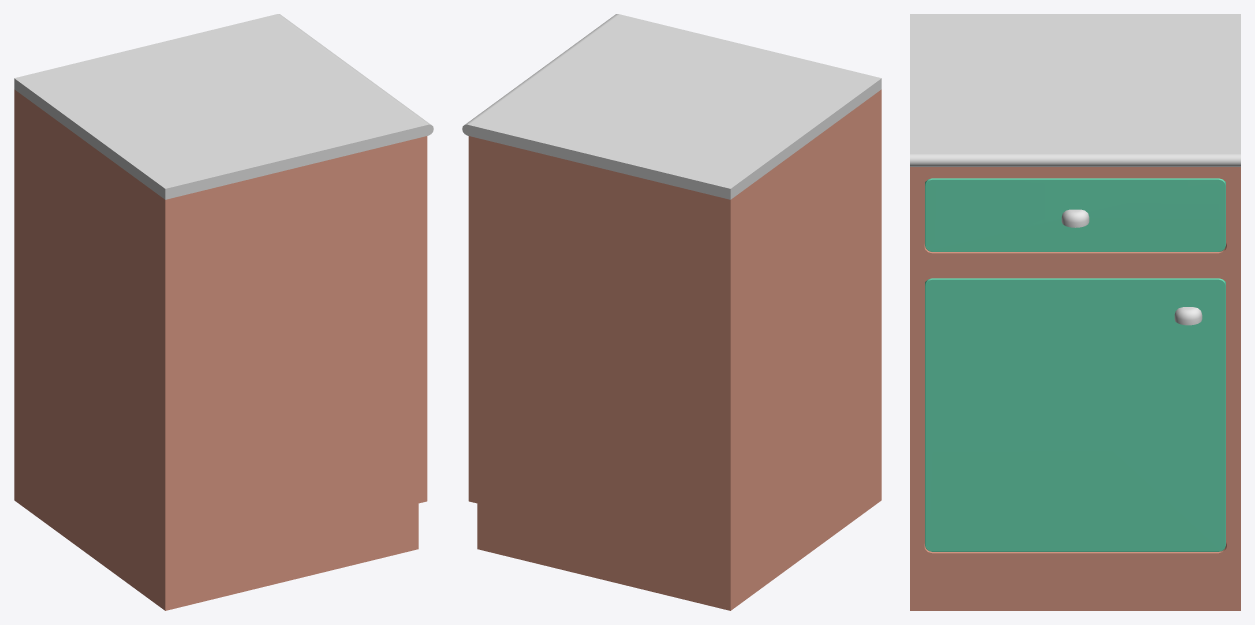
Rendered from Counter_1D_1C.fbx.
3 views of the same model, side by side, from view 1: azimuth 30°, elevation 25°; view 2: azimuth 150°, elevation 25°; view 3: azimuth 270°, elevation 25° (orthographic). The views are drawn at different scales.
Parts seen in each view (by area): view 1: Counter_1D_1C; view 2: Counter_1D_1C; view 3: Counter_1D_1C, Counter_Handle, Counter_Handle.001.
Boxes of the visible parts, box(x1,y1,x2,y2) form: Counter_1D_1C: box(14, 14, 433, 610); Counter_1D_1C: box(462, 14, 881, 610); Counter_1D_1C: box(910, 14, 1240, 610); Counter_Handle: box(1061, 209, 1089, 227); Counter_Handle.001: box(1174, 307, 1202, 325).
Size of the model in its own units: 625 by 600 by 924.
